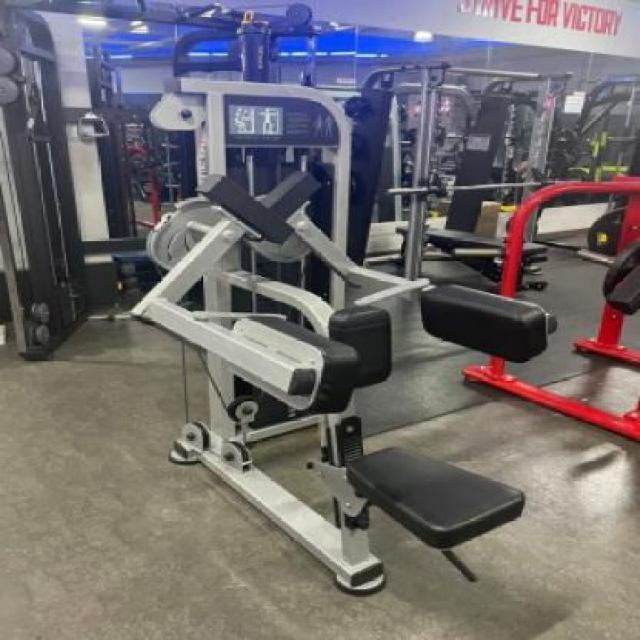lateral raises machine: (135, 176, 556, 598)
